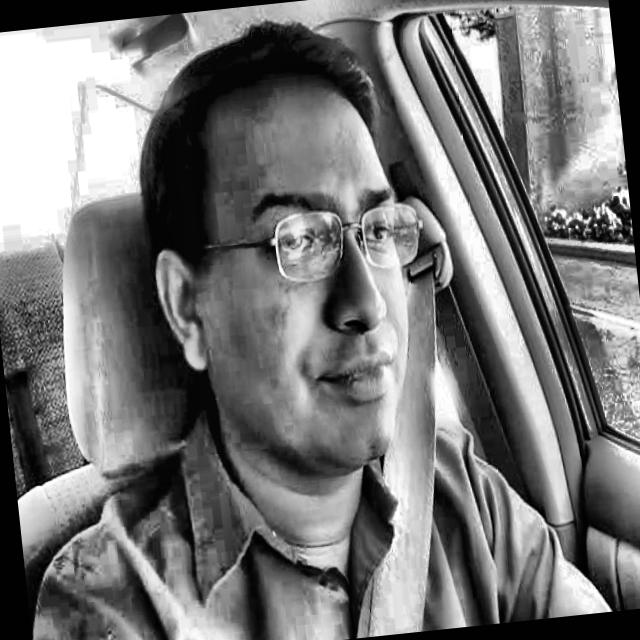closed_mouth: (302, 341, 422, 417)
open_eyes: (266, 209, 347, 287), (357, 203, 432, 271)
